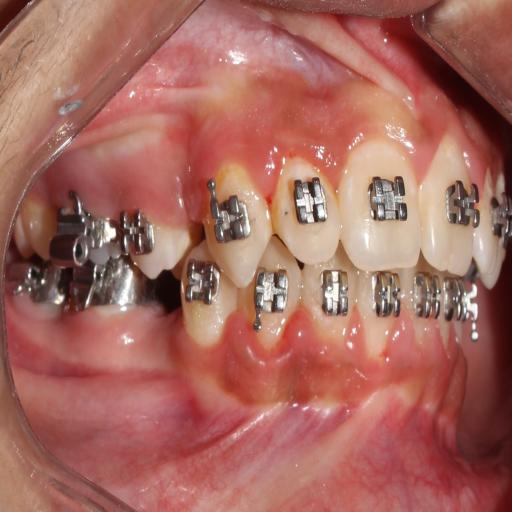correct_brace: (120, 202, 191, 278), (364, 168, 407, 230), (208, 191, 253, 246), (288, 174, 330, 228), (444, 176, 480, 233)
incorrect_brace: (270, 156, 340, 266), (120, 207, 153, 256)
